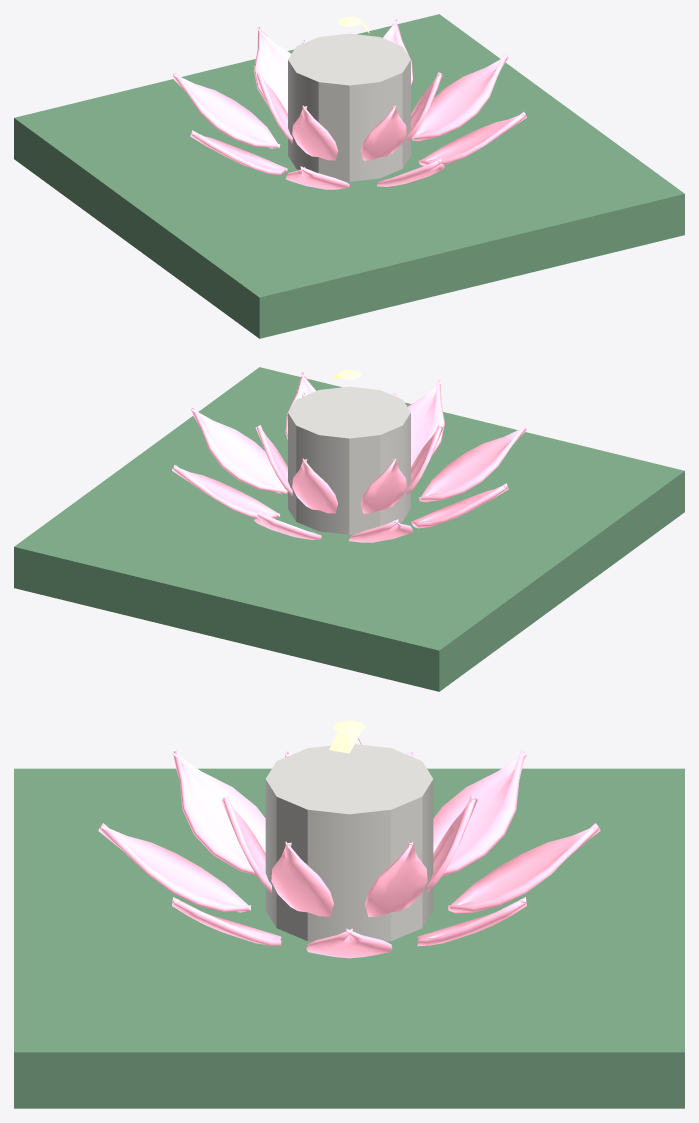
Rendered from den_hoa_dang.glb.
3 views of the same model, one above another, from view 1: azimuth 30°, elevation 25°; view 2: azimuth 150°, elevation 25°; view 3: azimuth 270°, elevation 25° (orthographic). The views are drawn at different scales.
Visible parts, largest first — view 1: den_hoa_dang.001, hd_outer_0, hd_outer_3, hd_outer_2, hd_outer_7, hd_inner_4, hd_inner_3, hd_outer_4, hd_outer_5, hd_inner_2, hd_inner_5, hd_outer_6; view 2: den_hoa_dang.001, hd_outer_0, hd_outer_5, hd_outer_6, hd_outer_1, hd_inner_1, hd_inner_2, hd_outer_4, hd_outer_3, hd_inner_0, hd_inner_3, hd_outer_2; view 3: den_hoa_dang.001, hd_outer_3, hd_outer_5, hd_outer_2, hd_outer_6, hd_inner_5, hd_inner_0, hd_outer_0, hd_outer_1, hd_outer_7, hd_inner_4, hd_inner_1.
Boxes of the visible parts, box(x1,y1,x2,y2) form: den_hoa_dang.001: box(14, 14, 684, 338); hd_outer_0: box(411, 54, 508, 141); hd_outer_3: box(172, 72, 280, 148); hd_outer_2: box(254, 26, 291, 113); hd_outer_7: box(418, 112, 526, 166); hd_inner_4: box(361, 105, 406, 160); hd_inner_3: box(292, 105, 337, 160); hd_outer_4: box(190, 130, 287, 175); hd_outer_5: box(285, 166, 349, 189); hd_inner_2: box(255, 72, 292, 142); hd_inner_5: box(406, 72, 443, 142); hd_outer_6: box(377, 158, 444, 186); den_hoa_dang.001: box(14, 367, 684, 691); hd_outer_0: box(190, 407, 287, 493); hd_outer_5: box(418, 425, 526, 502); hd_outer_6: box(407, 379, 444, 466); hd_outer_1: box(172, 465, 280, 518); hd_inner_1: box(292, 458, 337, 513); hd_inner_2: box(361, 458, 406, 513); hd_outer_4: box(411, 483, 508, 528); hd_outer_3: box(349, 519, 413, 542); hd_inner_0: box(255, 425, 292, 495); hd_inner_3: box(406, 425, 443, 495); hd_outer_2: box(254, 511, 321, 539); den_hoa_dang.001: box(14, 720, 684, 1108); hd_outer_3: box(433, 750, 526, 876); hd_outer_5: box(172, 750, 265, 875); hd_outer_2: box(448, 823, 600, 913); hd_outer_6: box(98, 823, 250, 912); hd_inner_5: box(271, 841, 333, 916); hd_inner_0: box(365, 841, 427, 916); hd_outer_0: box(306, 928, 392, 958); hd_outer_1: box(417, 897, 526, 946); hd_outer_7: box(172, 897, 281, 946); hd_inner_4: box(221, 796, 271, 892); hd_inner_1: box(427, 796, 477, 892).
Size of the model in its own units: 0.2 by 0.0803 by 0.2.
